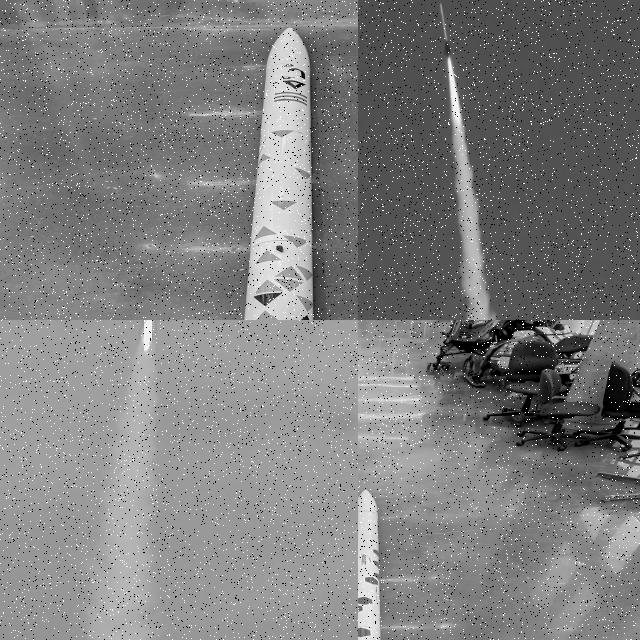Rocket: (243, 26, 316, 320), (358, 489, 381, 640), (438, 0, 451, 59)
